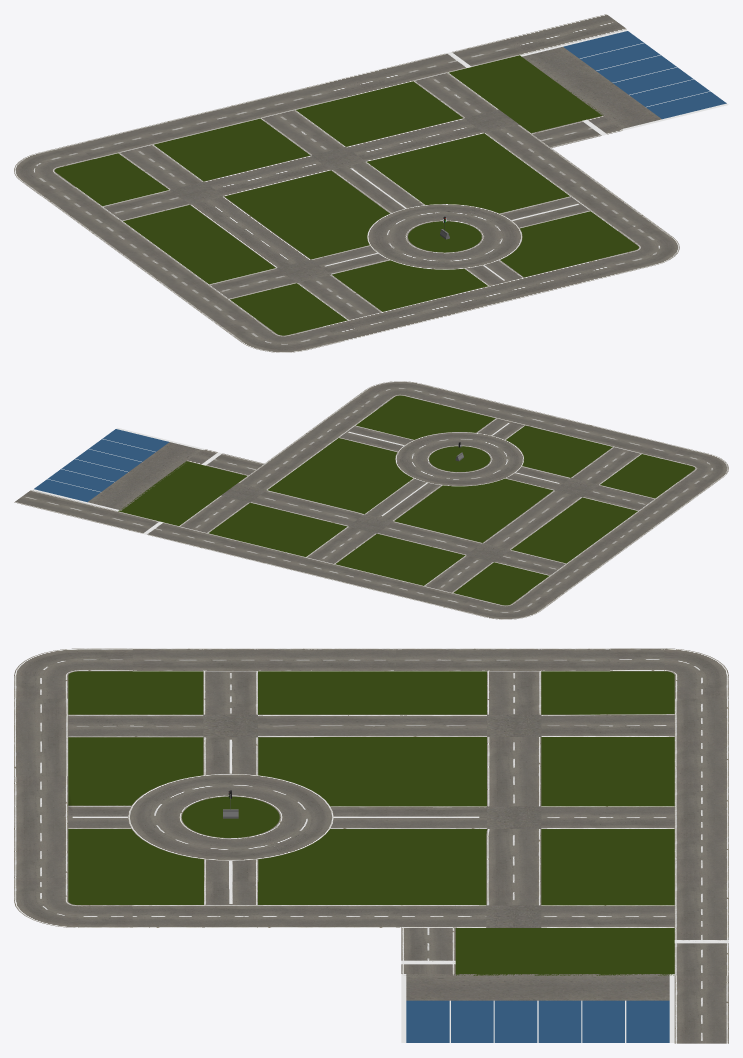
3 views of the same model, one above another, from view 1: azimuth 30°, elevation 25°; view 2: azimuth 150°, elevation 25°; view 3: azimuth 270°, elevation 25° (orthographic). The views are drawn at different scales.
Parts seen in each view (by area): view 1: Road, Park; view 2: Road, Park; view 3: Road, Park.
Boxes of the visible parts, <box> form: Road: <box>14,14,679,352</box>; Park: <box>520,29,728,130</box>; Road: <box>14,381,728,619</box>; Park: <box>32,427,204,510</box>; Road: <box>14,648,728,1043</box>; Park: <box>401,974,674,1042</box>.
Bounding box in the file's own units: 88.02 × 67.29 × 2.81.
Materials: 11 (1 with a texture image).
